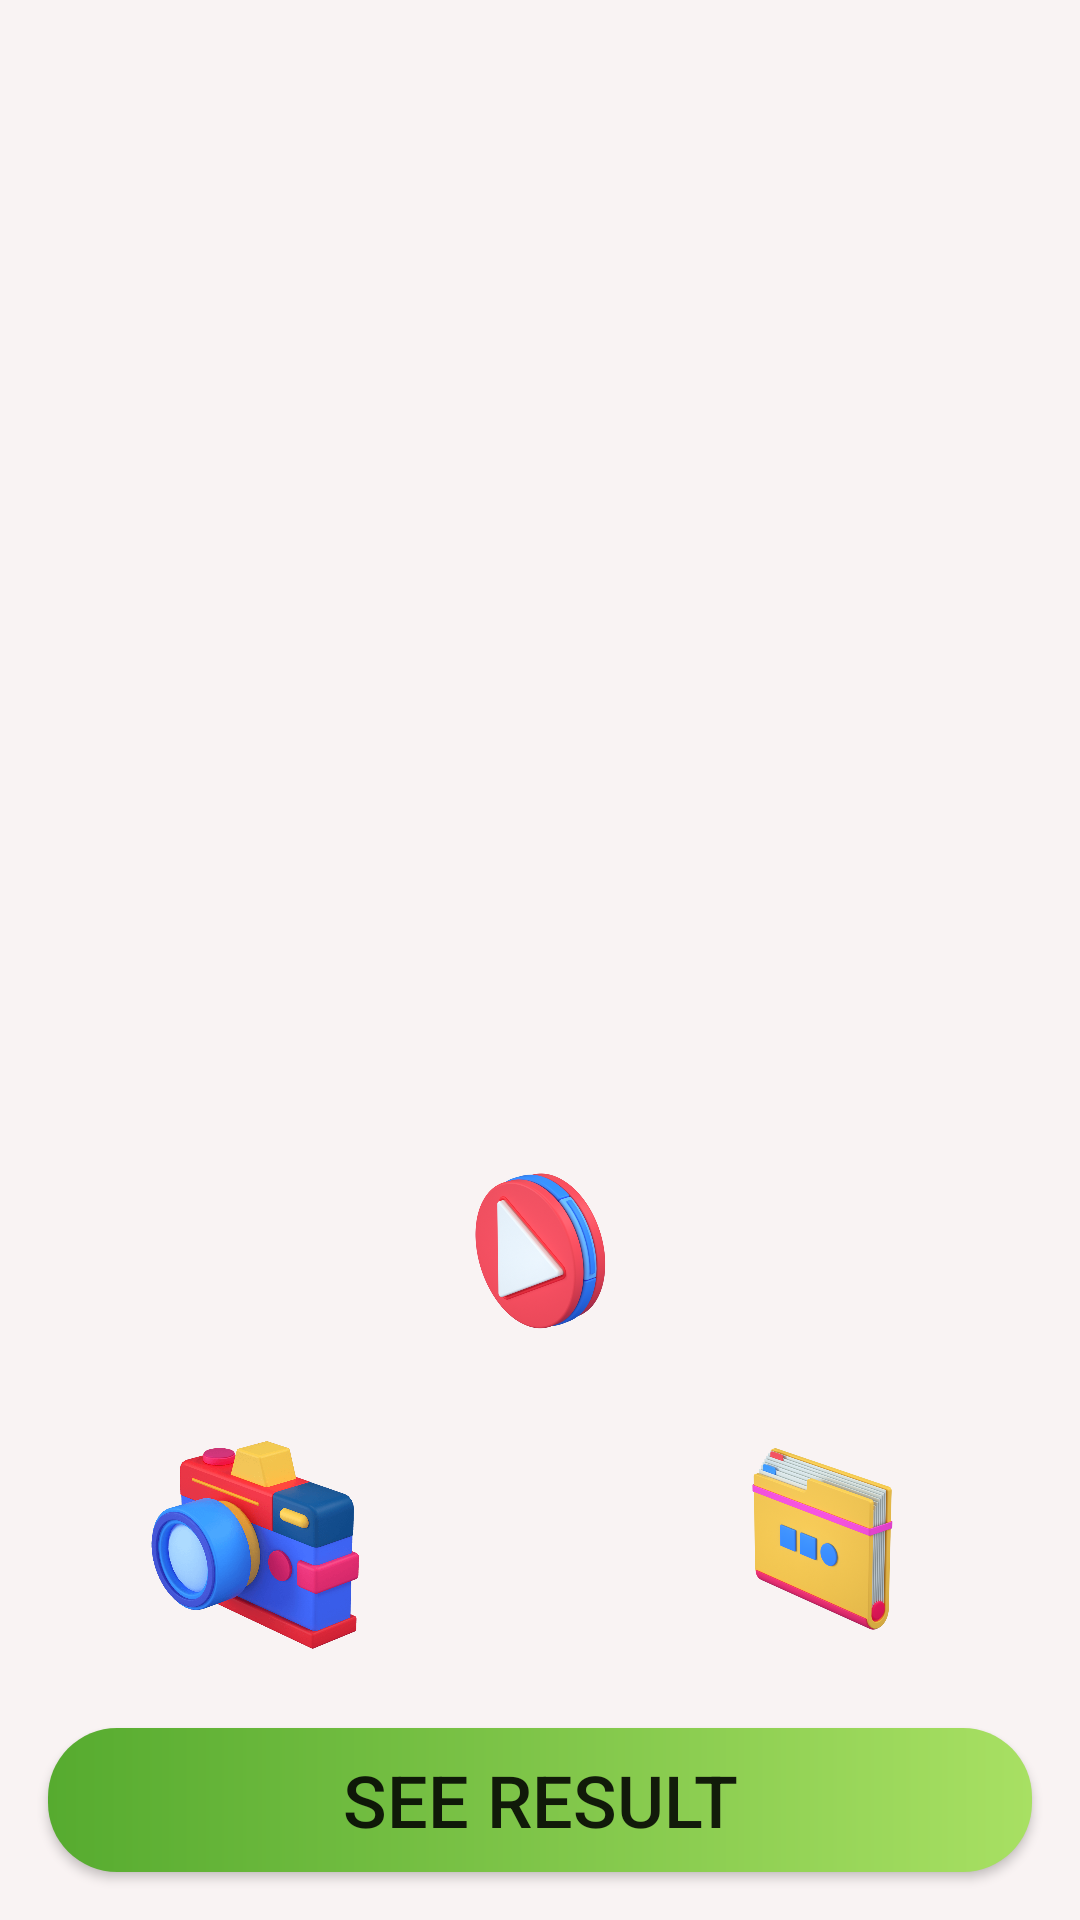

Icons on this 1080 x 1920 Android screen, each with its box as (x1, y1, x2, y2):
gallery: (752, 1448, 893, 1630)
play: (475, 1173, 605, 1328)
